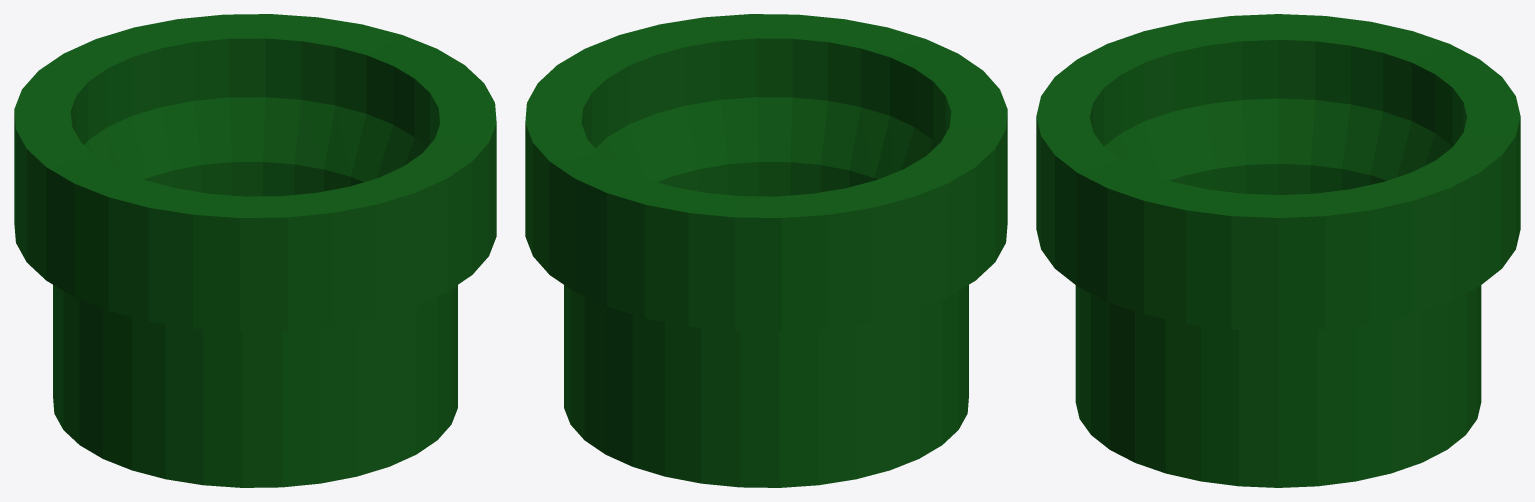
The model's file is Tubo.obj.
The picture shows the model from 3 angles, left to right: view 1: azimuth 30°, elevation 25°; view 2: azimuth 150°, elevation 25°; view 3: azimuth 270°, elevation 25°; orthographic projection.
Parts seen in each view (by area): view 1: tubo:Mesh; view 2: tubo:Mesh; view 3: tubo:Mesh.
Boxes of the visible parts, x1,y1,x2,y2 form: tubo:Mesh: [14, 14, 496, 487]; tubo:Mesh: [525, 14, 1007, 487]; tubo:Mesh: [1036, 14, 1520, 487].
Bounding box in the file's own units: 0.6083 × 0.3979 × 0.61.
Materials: 1 (1 with a texture image).
